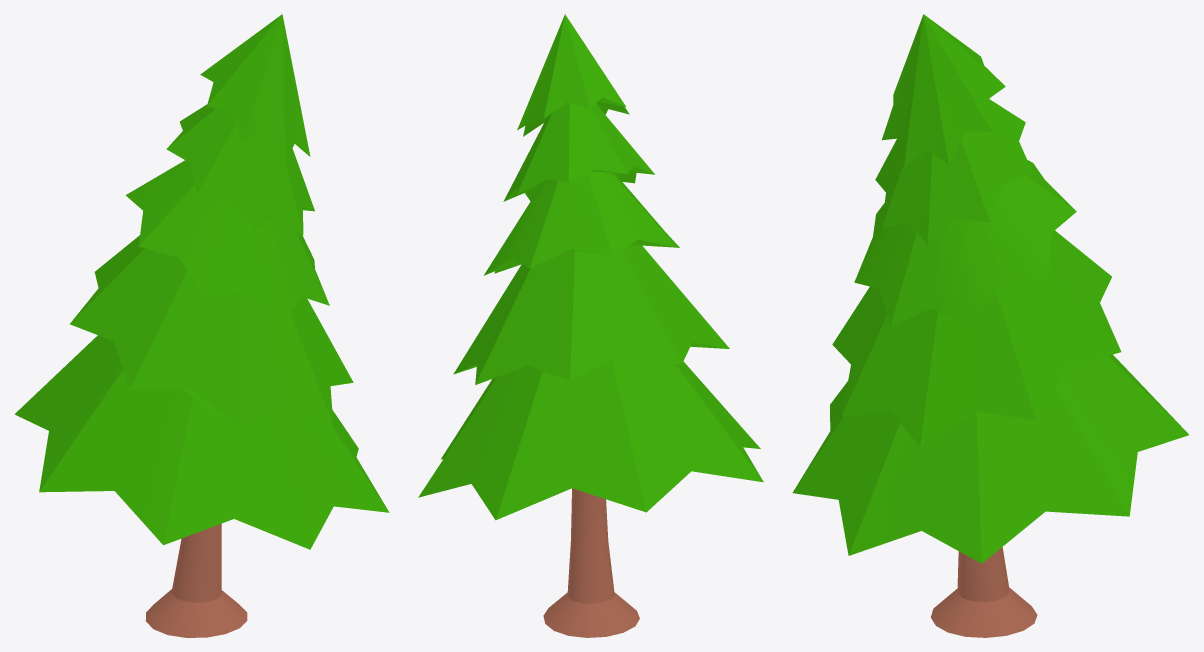
Rendered from object_146_lev1.glb.
3 views of the same model, side by side, from view 1: azimuth 30°, elevation 25°; view 2: azimuth 150°, elevation 25°; view 3: azimuth 270°, elevation 25° (orthographic). The views are drawn at different scales.
Parts seen in each view (by area): view 1: object_146_lev1; view 2: object_146_lev1; view 3: object_146_lev1.
Part boxes in pixels (box(x1,y1,x2,y2)): object_146_lev1: box(14, 14, 389, 637); object_146_lev1: box(418, 14, 763, 637); object_146_lev1: box(792, 14, 1188, 637).
Bounding box in the file's own units: 0.7197 × 1.26 × 0.7202.
Materials: 1 (1 with a texture image).
